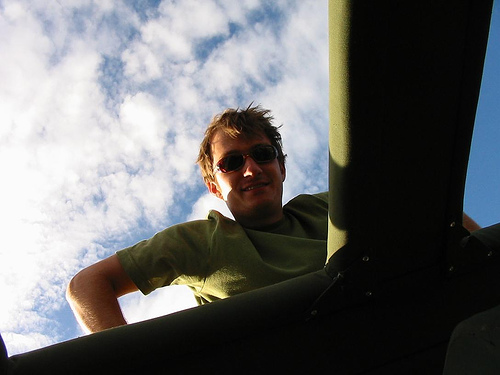without_mask: (207, 130, 286, 212)
